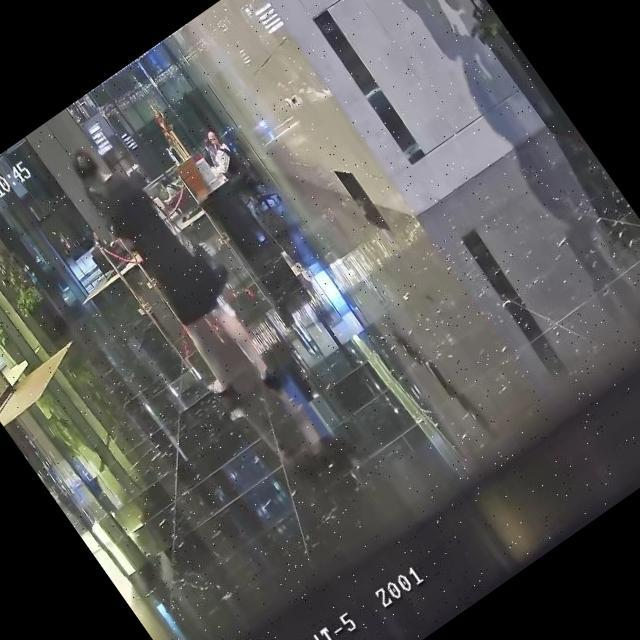person: (47, 118, 290, 416), (194, 124, 253, 193), (152, 170, 198, 224), (205, 126, 231, 156), (86, 226, 104, 248)
